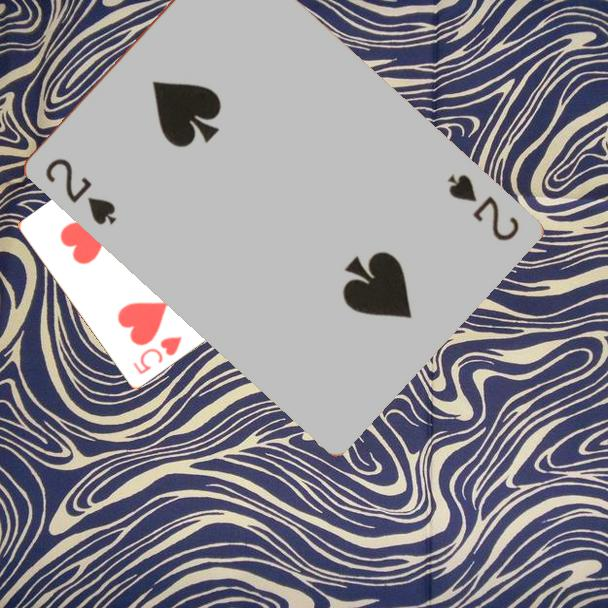h05: (129, 333, 185, 378)
s02: (442, 170, 521, 245), (41, 154, 119, 228)
